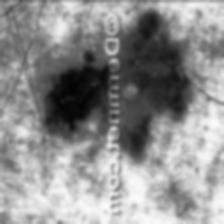Potentially Malignant Skin Tumors: (36, 7, 190, 159)
